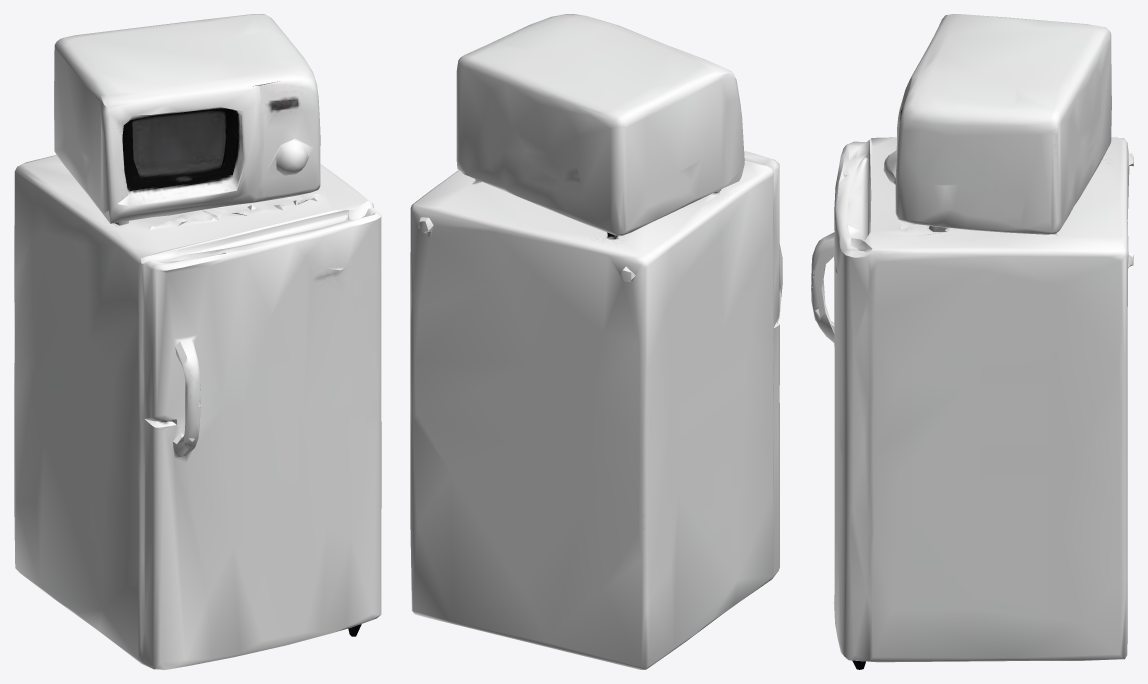
The model's file is minifridge.glb.
3 renders of one model, left to right at view 1: azimuth 30°, elevation 25°; view 2: azimuth 150°, elevation 25°; view 3: azimuth 270°, elevation 25°, orthographic.
Visible parts, largest first — view 1: minifridge; view 2: minifridge; view 3: minifridge.
Boxes of the visible parts, x1,y1,x2,y2 form: minifridge: [14, 14, 381, 669]; minifridge: [410, 14, 782, 669]; minifridge: [811, 14, 1133, 669].
Size of the model in its own units: 0.7131 by 1.6 by 0.8353.
1 material, 1 textured.
